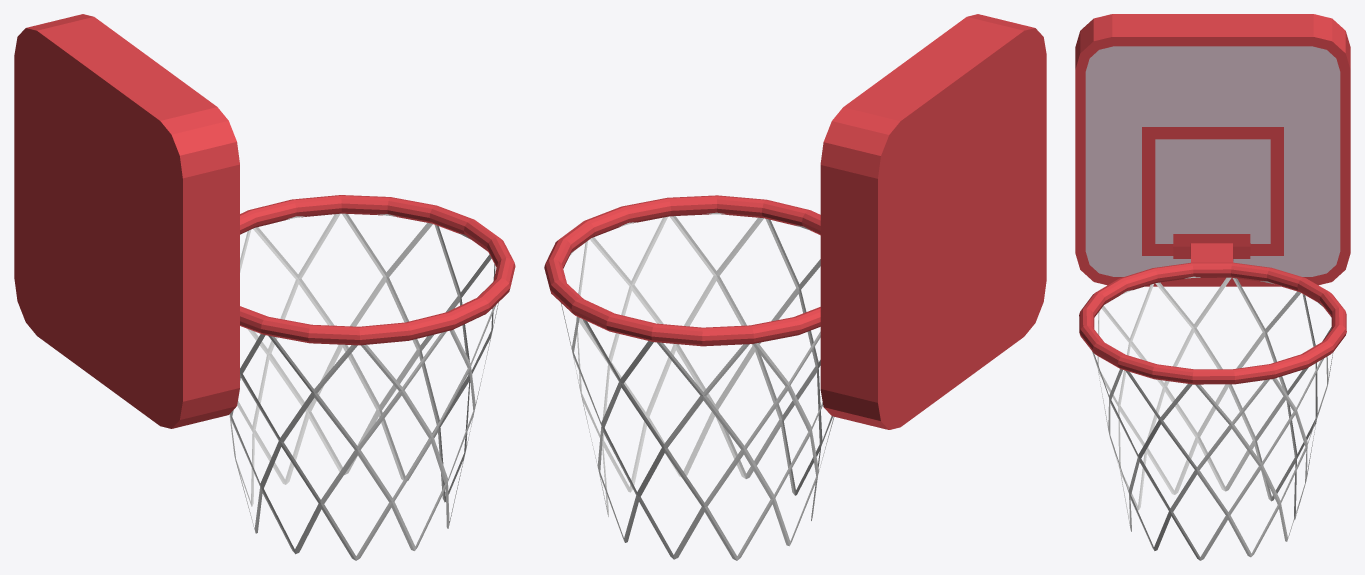
File: Bucket.fbx
3 views of the same model, side by side, from view 1: azimuth 30°, elevation 25°; view 2: azimuth 150°, elevation 25°; view 3: azimuth 270°, elevation 25° (orthographic). The views are drawn at different scales.
Visible parts, largest first — view 1: Bucket; view 2: Bucket; view 3: Bucket.
Part boxes in pixels (x1,y1,x2,y2): Bucket: (14, 14, 515, 560); Bucket: (544, 14, 1046, 560); Bucket: (1075, 14, 1350, 560).
Size of the model in its own units: 270 by 330 by 200.
